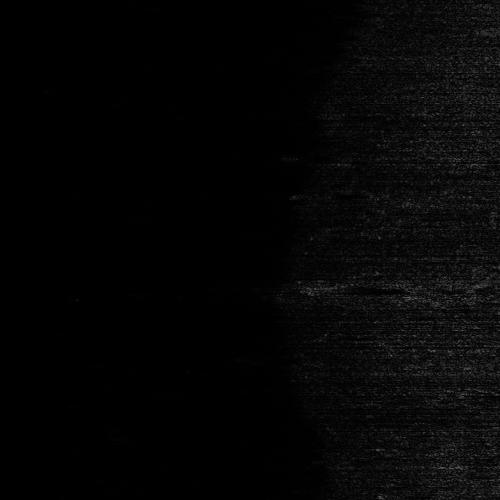rock: (464, 22, 500, 31)
